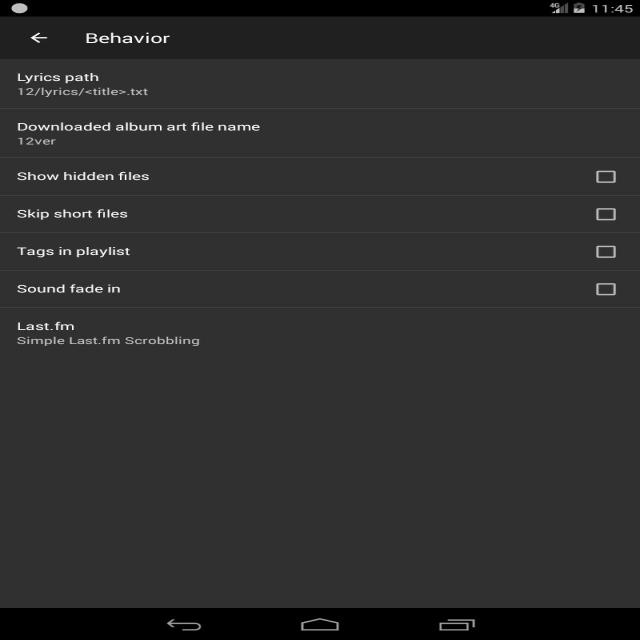button: (25, 30, 54, 48), (596, 169, 616, 184), (596, 283, 615, 295), (598, 208, 615, 220), (598, 246, 614, 257)
heading: (84, 31, 172, 47)
text: (10, 117, 264, 149), (9, 317, 206, 348), (9, 70, 153, 98), (12, 279, 140, 299), (14, 168, 156, 185), (15, 242, 139, 260), (12, 206, 138, 220)
